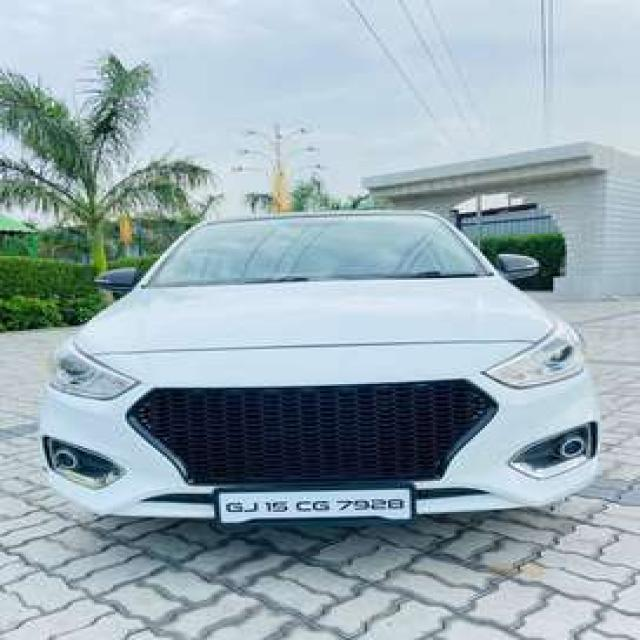plate: (215, 486, 413, 520)
